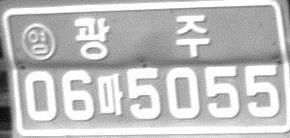0: (165, 67, 200, 119), (23, 70, 57, 122)
5: (243, 64, 280, 119), (203, 65, 240, 119), (126, 67, 161, 121)
6: (61, 69, 95, 122)
광주_D: (72, 13, 211, 60)
마: (96, 73, 124, 116)
영: (20, 22, 56, 61)
